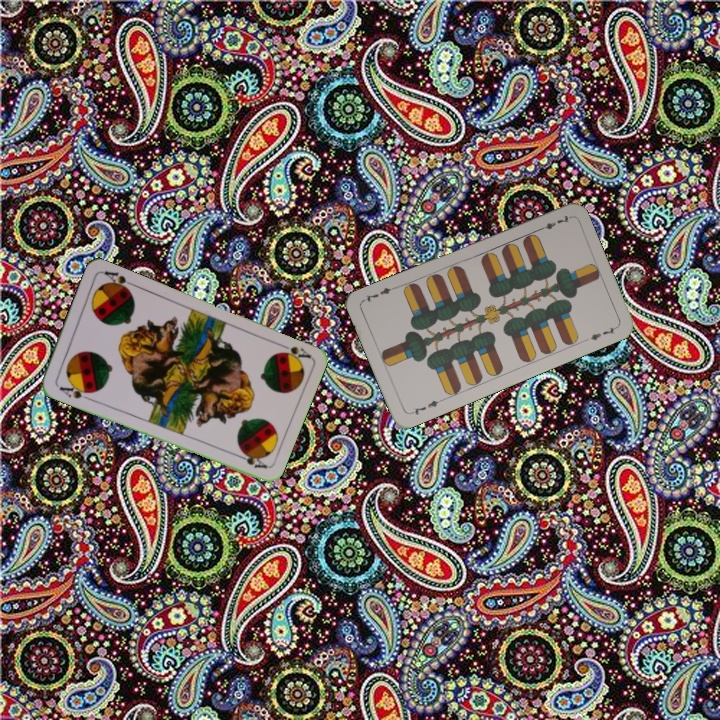E7: (534, 211, 573, 234), (406, 396, 445, 417)
SA: (274, 339, 313, 364), (54, 379, 94, 403)
